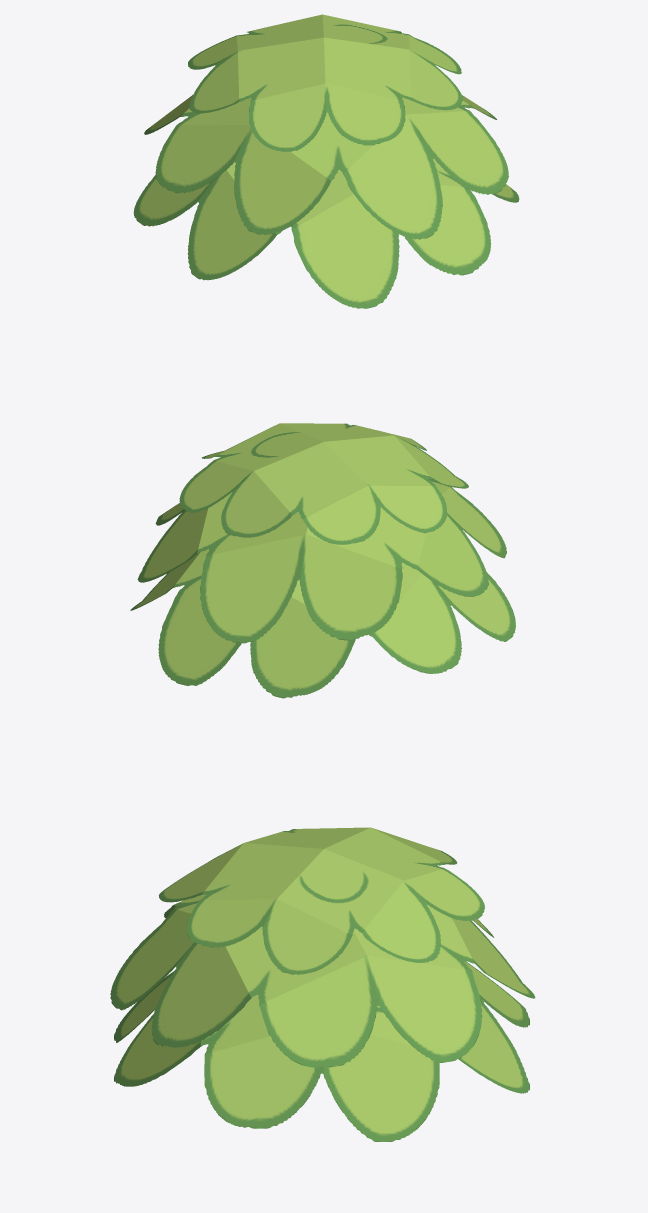
Rendered from George2 1.fbx.
The picture shows the model from 3 angles, top to bottom: view 1: azimuth 30°, elevation 25°; view 2: azimuth 150°, elevation 25°; view 3: azimuth 270°, elevation 25°; orthographic projection. The views are drawn at different scales.
Visible parts, largest first — view 1: Bush (S).003, Bush (S).002, Bush (S).004; view 2: Bush (S).003, Bush (S).002, Bush (S).004; view 3: Bush (S).003, Bush (S).002, Bush (S).004.
Part boxes in pixels (x1=…): Bush (S).003: x1=144, y1=95, x2=508, y2=239; Bush (S).002: x1=188, y1=14, x2=462, y2=151; Bush (S).004: x1=133, y1=159, x2=519, y2=308; Bush (S).003: x1=137, y1=479, x2=506, y2=643; Bush (S).002: x1=179, y1=423, x2=468, y2=544; Bush (S).004: x1=130, y1=549, x2=515, y2=698; Bush (S).003: x1=110, y1=894, x2=535, y2=1067; Bush (S).002: x1=159, y1=827, x2=484, y2=974; Bush (S).004: x1=114, y1=961, x2=529, y2=1141.
Bounding box in the file's own units: 46.9 × 19.56 × 45.78.
